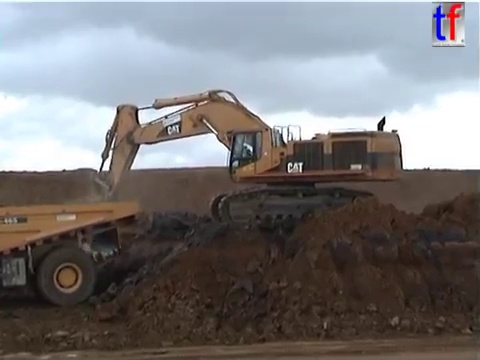excavator: (61, 87, 405, 260)
truck: (1, 197, 140, 307)
